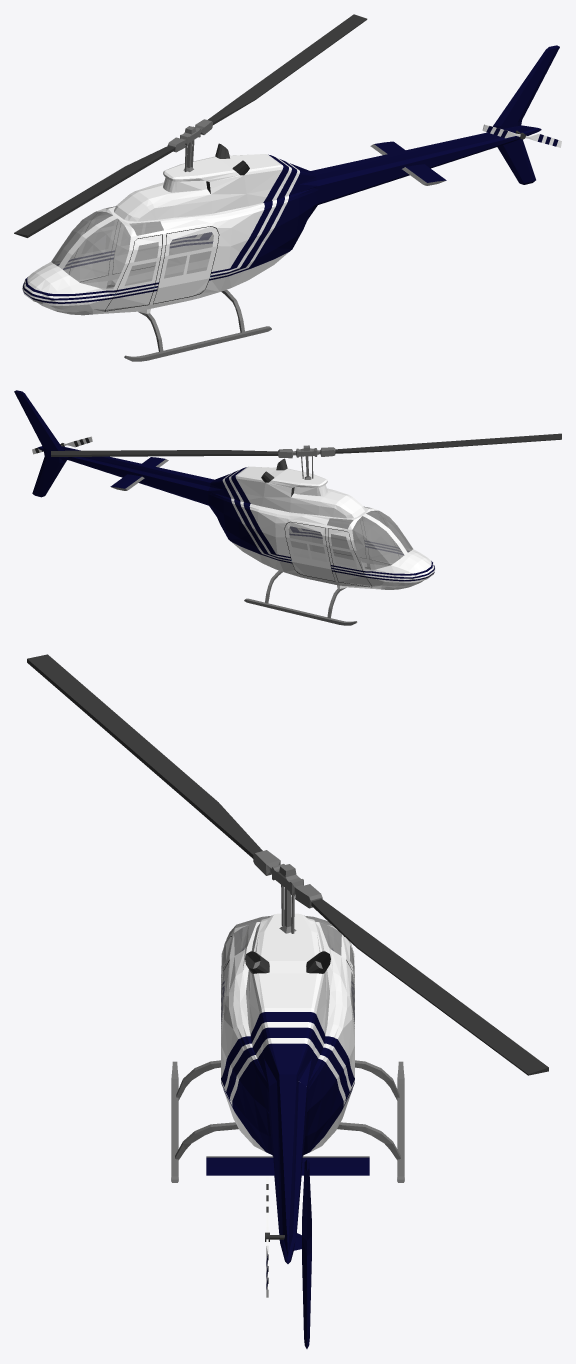
The model's file is helicopter.FBX.
The picture shows the model from 3 angles, top to bottom: view 1: azimuth 30°, elevation 25°; view 2: azimuth 150°, elevation 25°; view 3: azimuth 270°, elevation 25°; orthographic projection. The views are drawn at different scales.
Visible parts, largest first — view 1: SimLabTempObj; view 2: SimLabTempObj; view 3: SimLabTempObj.
Part boxes in pixels (x1,y1,x2,y2): SimLabTempObj: [14, 14, 561, 361]; SimLabTempObj: [14, 390, 561, 625]; SimLabTempObj: [27, 654, 548, 1348].
Bounding box in the file's own units: 11.09 × 5.19 × 3.37.
